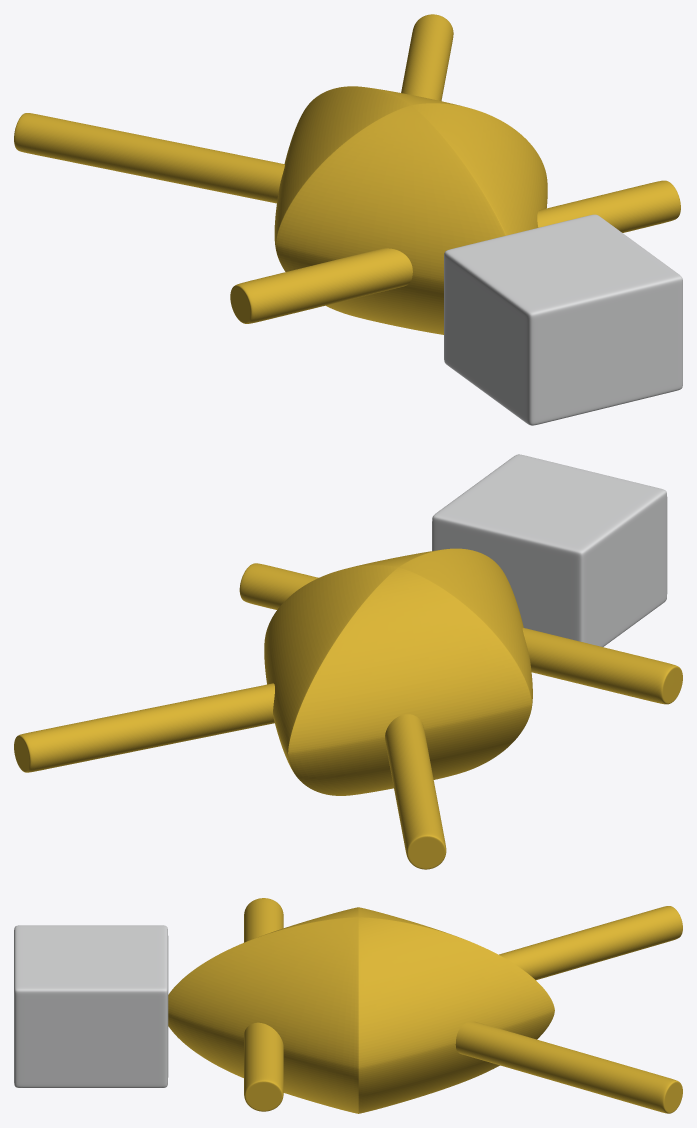
File: 20_circular_headed_guy.glb
3 renders of one model, top to bottom at view 1: azimuth 30°, elevation 25°; view 2: azimuth 150°, elevation 25°; view 3: azimuth 270°, elevation 25°, orthographic. The views are drawn at different scales.
Visible parts, largest first — view 1: superquadric_0, superquadric_1, superquadric_2, superquadric_3, superquadric_4; view 2: superquadric_0, superquadric_1, superquadric_4, superquadric_2, superquadric_3; view 3: superquadric_0, superquadric_1, superquadric_4, superquadric_3, superquadric_2.
Boxes of the visible parts, <box> form: superquadric_0: <box>274,86,547,334</box>; superquadric_1: <box>444,214,682,425</box>; superquadric_2: <box>230,180,680,323</box>; superquadric_3: <box>14,113,284,203</box>; superquadric_4: <box>401,14,453,101</box>; superquadric_0: <box>264,548,532,795</box>; superquadric_1: <box>432,454,667,646</box>; superquadric_4: <box>14,683,274,772</box>; superquadric_2: <box>239,563,682,704</box>; superquadric_3: <box>385,714,446,869</box>; superquadric_0: <box>168,907,554,1113</box>; superquadric_1: <box>14,925,168,1087</box>; superquadric_4: <box>455,1021,682,1113</box>; superquadric_3: <box>499,906,682,980</box>; superquadric_2: <box>244,898,283,1111</box>.
Size of the model in its own units: 0.6653 by 0.3074 by 1.
